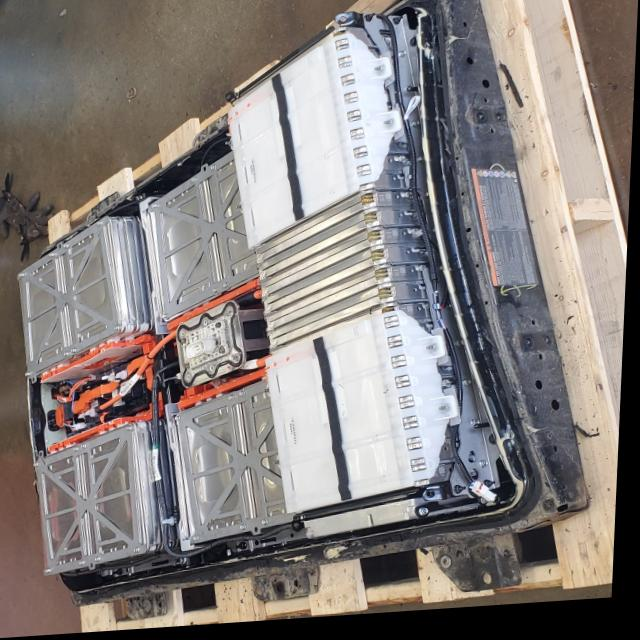Battery Module: (270, 325, 405, 514), (228, 46, 351, 244), (152, 171, 255, 306), (185, 400, 285, 537), (43, 438, 143, 567), (24, 233, 120, 366)
Bolt: (471, 421, 490, 438), (478, 466, 499, 475), (190, 176, 203, 188), (127, 425, 138, 438), (423, 513, 438, 522), (412, 124, 425, 134), (17, 271, 31, 280), (419, 158, 429, 170), (241, 527, 254, 536), (229, 396, 239, 407), (211, 166, 221, 177), (149, 205, 161, 214), (241, 392, 251, 402), (136, 549, 148, 557), (224, 284, 234, 293), (115, 325, 124, 335), (82, 559, 91, 569), (49, 252, 59, 261), (75, 346, 83, 357), (265, 522, 276, 530), (28, 370, 36, 381), (36, 461, 45, 470), (213, 289, 221, 299), (195, 537, 205, 545), (96, 221, 106, 229), (49, 568, 57, 577), (65, 242, 73, 251), (178, 416, 185, 426), (98, 558, 108, 565), (77, 446, 84, 456), (163, 315, 171, 322), (65, 351, 71, 360), (84, 444, 93, 450)
Bus-bar: (42, 337, 153, 384), (52, 406, 157, 455), (169, 284, 259, 333), (75, 363, 140, 414), (182, 374, 265, 412)
Cable: (104, 332, 185, 414)
Nut: (438, 406, 458, 424), (426, 344, 445, 360), (99, 569, 119, 580), (464, 383, 479, 397), (396, 53, 411, 67), (390, 21, 408, 32), (371, 68, 385, 82), (381, 124, 398, 135), (362, 15, 376, 28), (456, 491, 473, 501), (488, 485, 502, 497), (175, 561, 192, 569)
